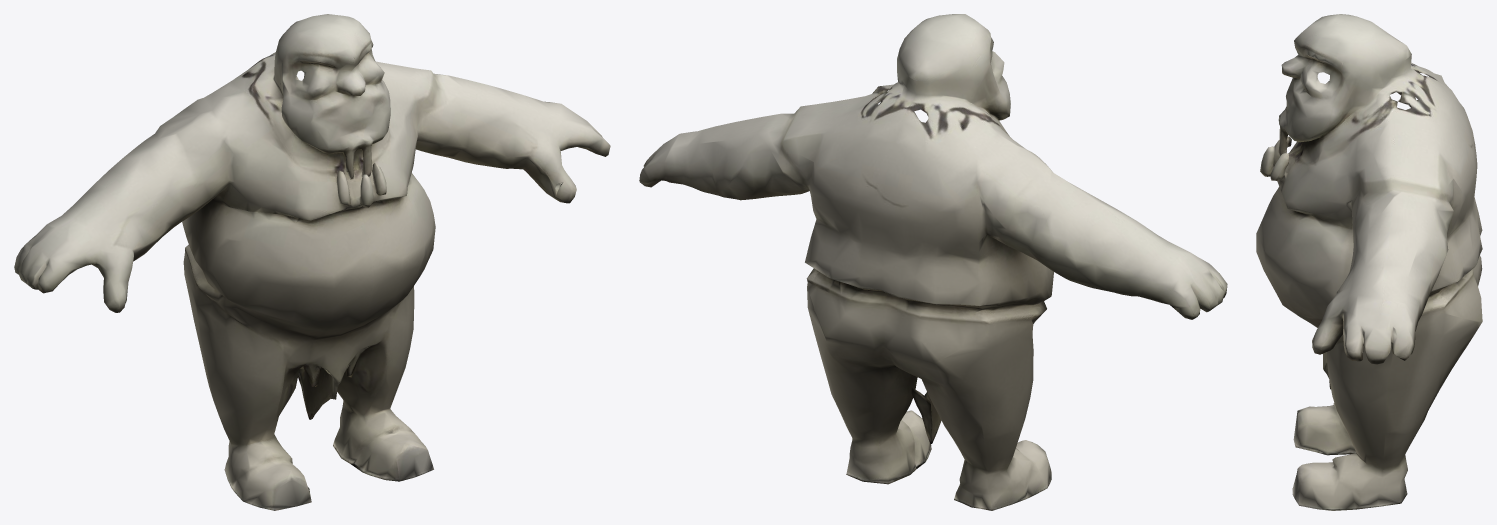
The model's file is zombie_bloater.glb.
3 views of the same model, side by side, from view 1: azimuth 30°, elevation 25°; view 2: azimuth 150°, elevation 25°; view 3: azimuth 270°, elevation 25° (orthographic).
Parts seen in each view (by area): view 1: zombie_bloater; view 2: zombie_bloater; view 3: zombie_bloater.
Boxes of the visible parts, x1,y1,x2,y2 form: zombie_bloater: (14, 14, 610, 510); zombie_bloater: (639, 14, 1227, 510); zombie_bloater: (1256, 14, 1482, 510).
Size of the model in its own units: 1 by 0.7615 by 0.3476.
1 material, 1 textured.
